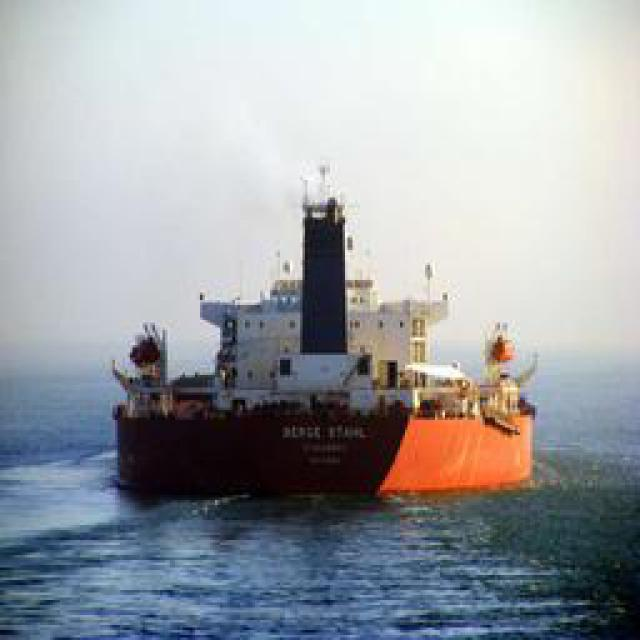Ship: (112, 164, 540, 507)
